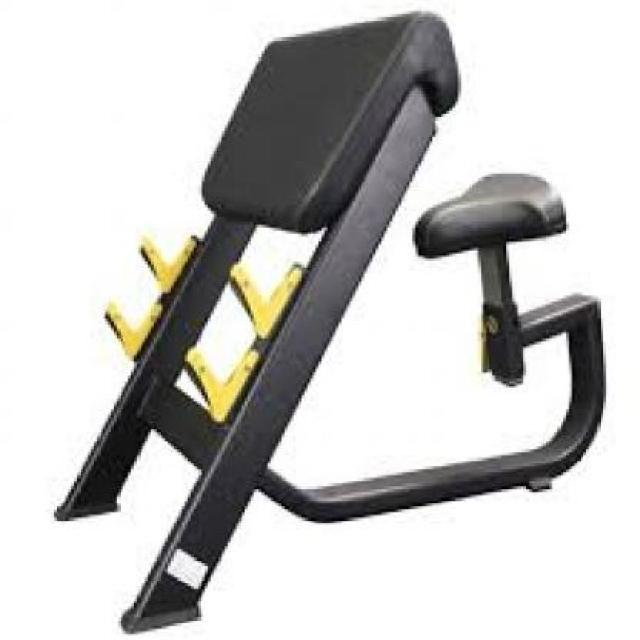arm curl machine: (54, 12, 606, 632)
